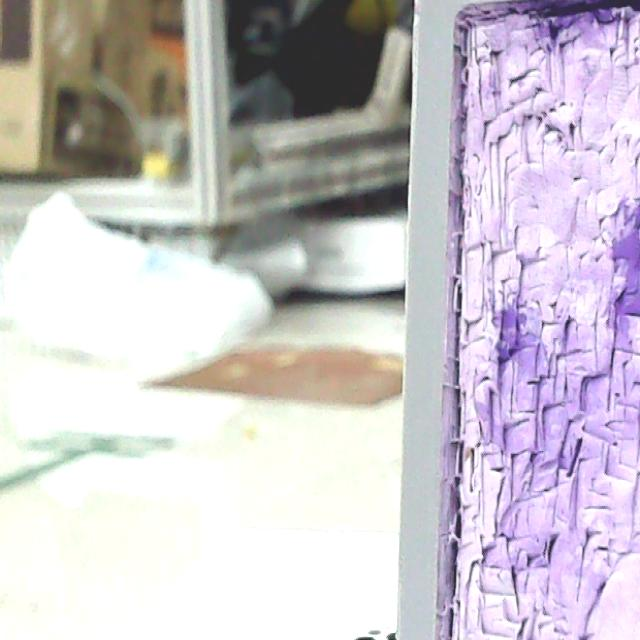block: (396, 0, 640, 633)
